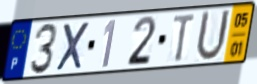1: (101, 18, 117, 70)
2: (127, 15, 158, 67)
3: (29, 22, 58, 76)
T: (172, 12, 198, 64)
U: (193, 8, 232, 64)
X: (54, 20, 91, 73)
